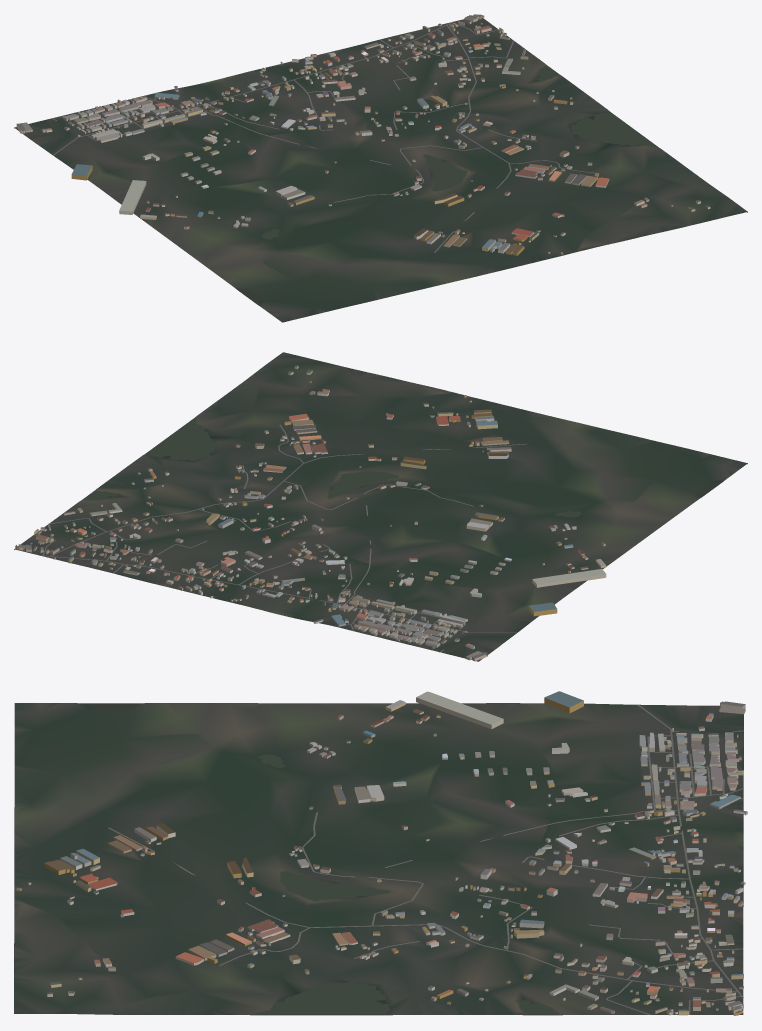
3 renders of one model, top to bottom at view 1: azimuth 30°, elevation 25°; view 2: azimuth 150°, elevation 25°; view 3: azimuth 270°, elevation 25°, orthographic. The views are drawn at different scales.
Parts seen in each view (by area): view 1: ground, buildings, water, roads; view 2: ground, buildings, water, roads; view 3: ground, buildings, water, roads.
Part boxes in pixels (bbox=[...]): ground: bbox=[14, 17, 747, 322]; buildings: bbox=[16, 14, 710, 255]; water: bbox=[236, 65, 657, 303]; roads: bbox=[52, 21, 599, 252]; ground: bbox=[14, 352, 747, 661]; buildings: bbox=[15, 365, 606, 661]; water: bbox=[83, 418, 721, 517]; roads: bbox=[34, 424, 526, 652]; ground: bbox=[14, 703, 743, 1015]; buildings: bbox=[16, 691, 747, 1015]; water: bbox=[83, 703, 557, 1014]; roads: bbox=[108, 704, 743, 1014].
Size of the model in its own units: 1437 by 24.03 by 1411.
